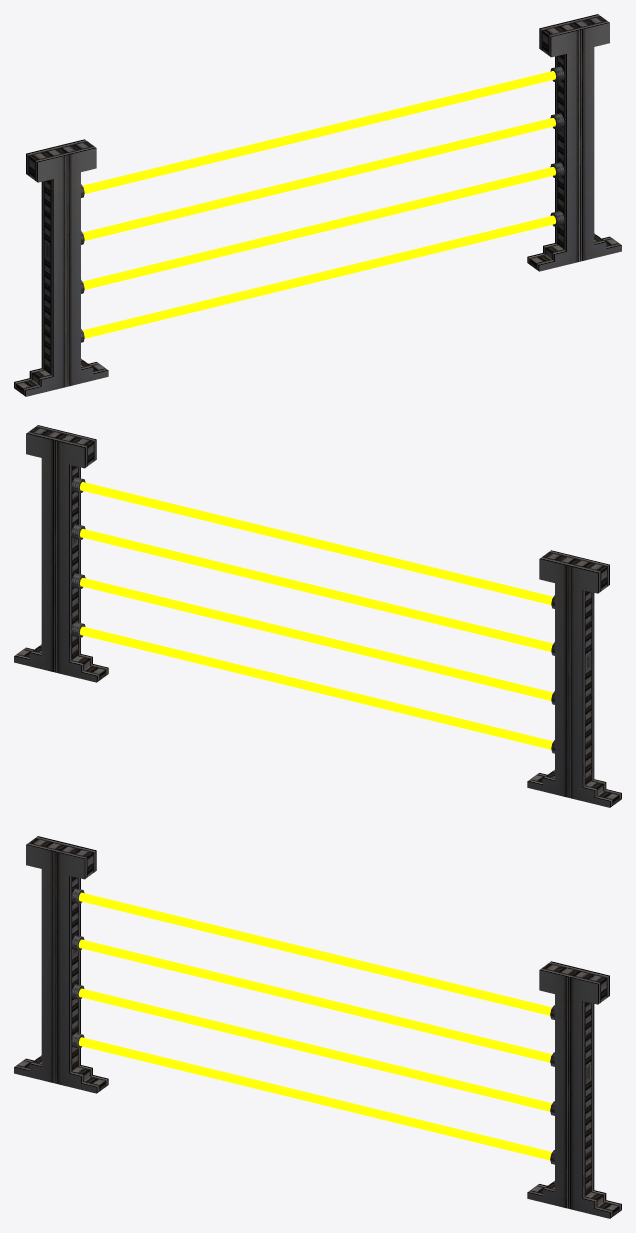
File: TRF0210004.fbx
3 renders of one model, top to bottom at view 1: azimuth 30°, elevation 25°; view 2: azimuth 150°, elevation 25°; view 3: azimuth 330°, elevation 25°, orthographic.
Parts seen in each view (by area): view 1: smTRF0210004; view 2: smTRF0210004; view 3: smTRF0210004.
Boxes of the visible parts, x1,y1,x2,y2 form: smTRF0210004: [14, 14, 621, 396]; smTRF0210004: [14, 425, 621, 807]; smTRF0210004: [14, 836, 621, 1218].
Size of the model in its own units: 277 by 103 by 9.66.
1 material, 1 textured.
